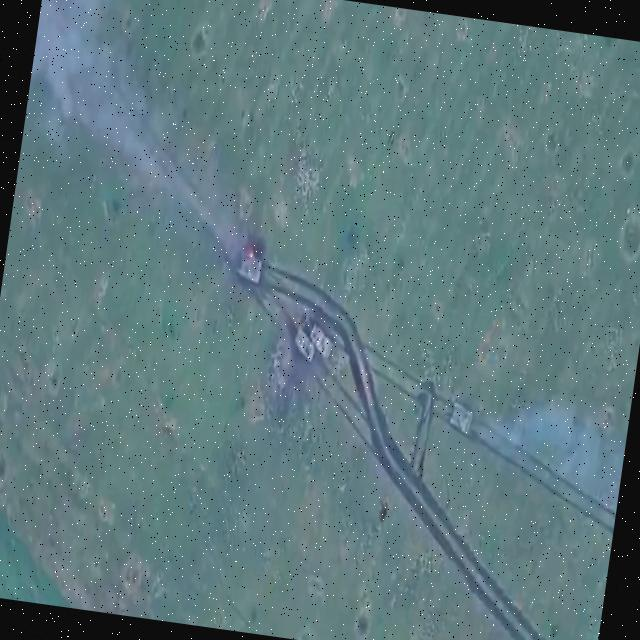AIFV: (291, 327, 321, 368), (308, 324, 337, 362)
MBT: (232, 245, 267, 289), (446, 398, 477, 440)
